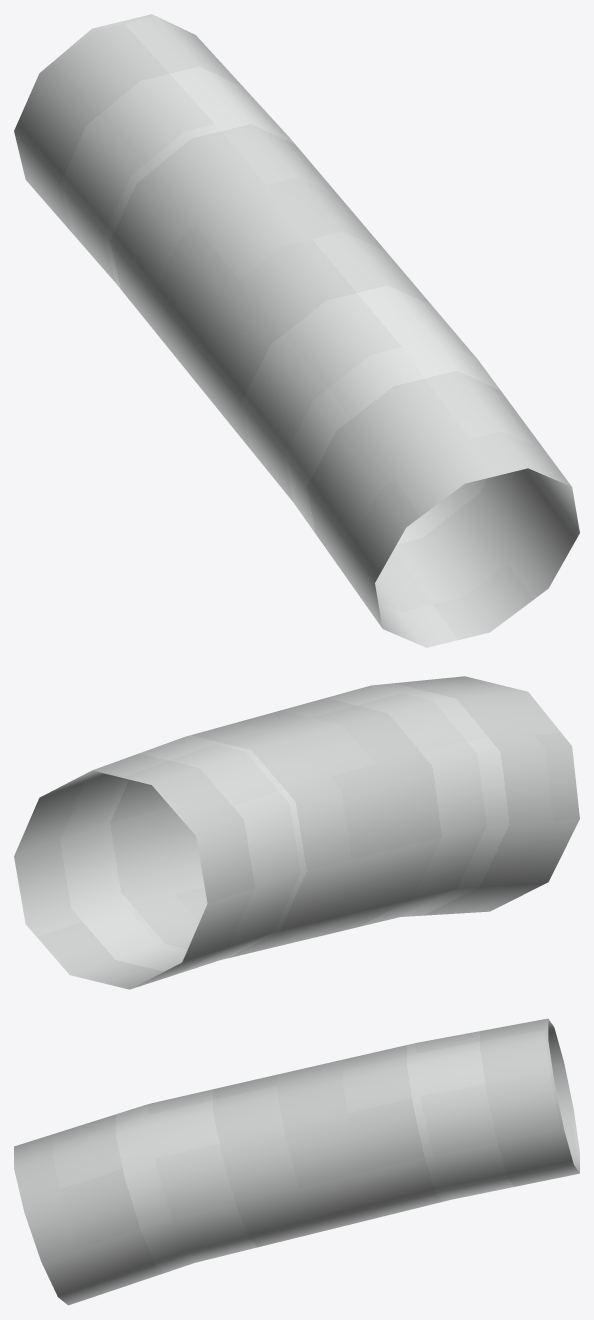
File: nycsignalarm_regular6_c3.obj
The picture shows the model from 3 angles, top to bottom: view 1: azimuth 30°, elevation 25°; view 2: azimuth 150°, elevation 25°; view 3: azimuth 270°, elevation 25°; orthographic projection. The views are drawn at different scales.
Parts seen in each view (by area): view 1: nycsignalarm_regular6_c3; view 2: nycsignalarm_regular6_c3; view 3: nycsignalarm_regular6_c3.
Boxes of the visible parts, x1,y1,x2,y2 form: nycsignalarm_regular6_c3: (14, 14, 579, 647); nycsignalarm_regular6_c3: (14, 676, 579, 989); nycsignalarm_regular6_c3: (14, 1018, 579, 1305).
Size of the model in its own units: 0.3229 by 0.5604 by 1.08.
